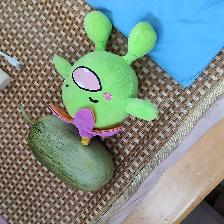gua: (33, 116, 116, 180)
